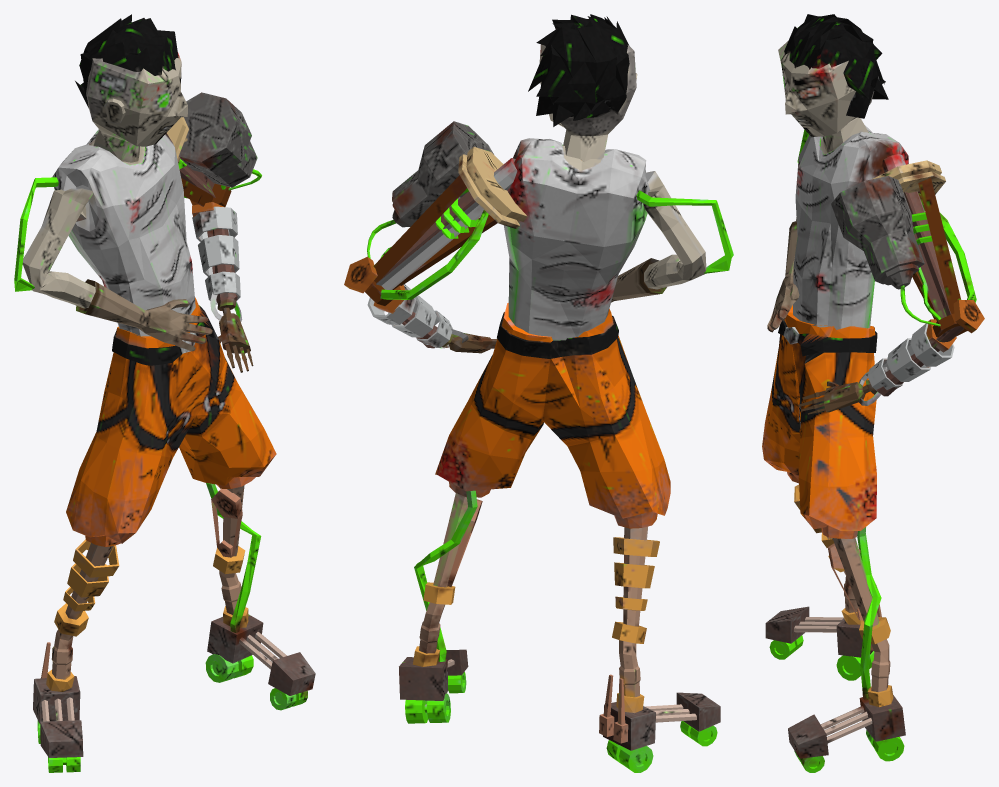
File: CyborgFINALAnimation_000102.obj
The picture shows the model from 3 angles, left to right: view 1: azimuth 30°, elevation 25°; view 2: azimuth 150°, elevation 25°; view 3: azimuth 270°, elevation 25°; orthographic projection. The views are drawn at different scales.
Visible parts, largest first — view 1: CyborgMesh_Cube.002; view 2: CyborgMesh_Cube.002; view 3: CyborgMesh_Cube.002.
Boxes of the visible parts, <box> form: CyborgMesh_Cube.002: <box>14,14,315,772</box>; CyborgMesh_Cube.002: <box>344,14,733,772</box>; CyborgMesh_Cube.002: <box>762,14,984,772</box>.
Bounding box in the file's own units: 4.23 × 9.6 × 2.83.
